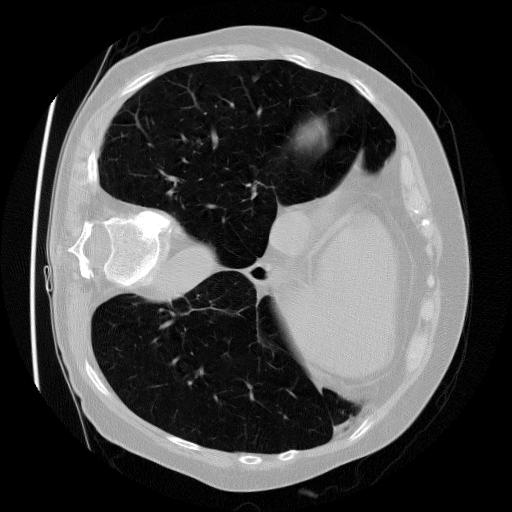nodule: (250, 71, 264, 85)
